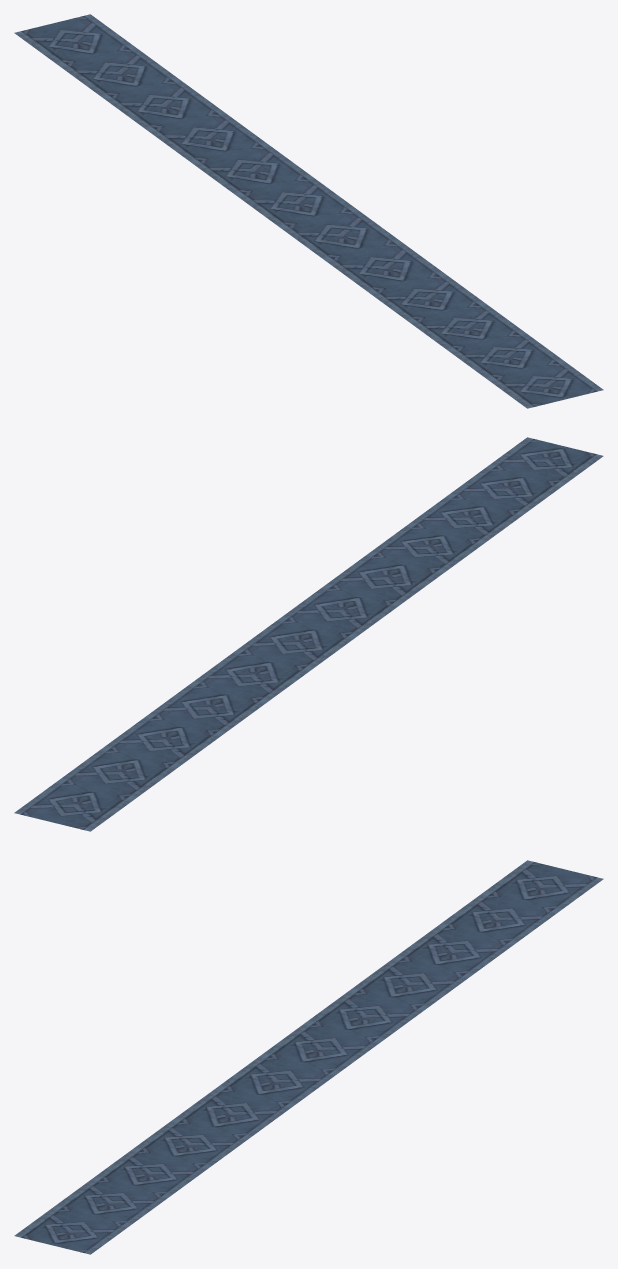
File: Area_09_6.fbx
The picture shows the model from 3 angles, top to bottom: view 1: azimuth 30°, elevation 25°; view 2: azimuth 150°, elevation 25°; view 3: azimuth 330°, elevation 25°; orthographic projection.
Parts seen in each view (by area): view 1: Area_09_6; view 2: Area_09_6; view 3: Area_09_6.
Boxes of the visible parts, bbox=[...] form: Area_09_6: bbox=[14, 14, 603, 408]; Area_09_6: bbox=[14, 437, 603, 831]; Area_09_6: bbox=[14, 860, 603, 1254].
Bounding box in the file's own units: 603 × 0.00119 × 6994.
1 material, 1 textured.
